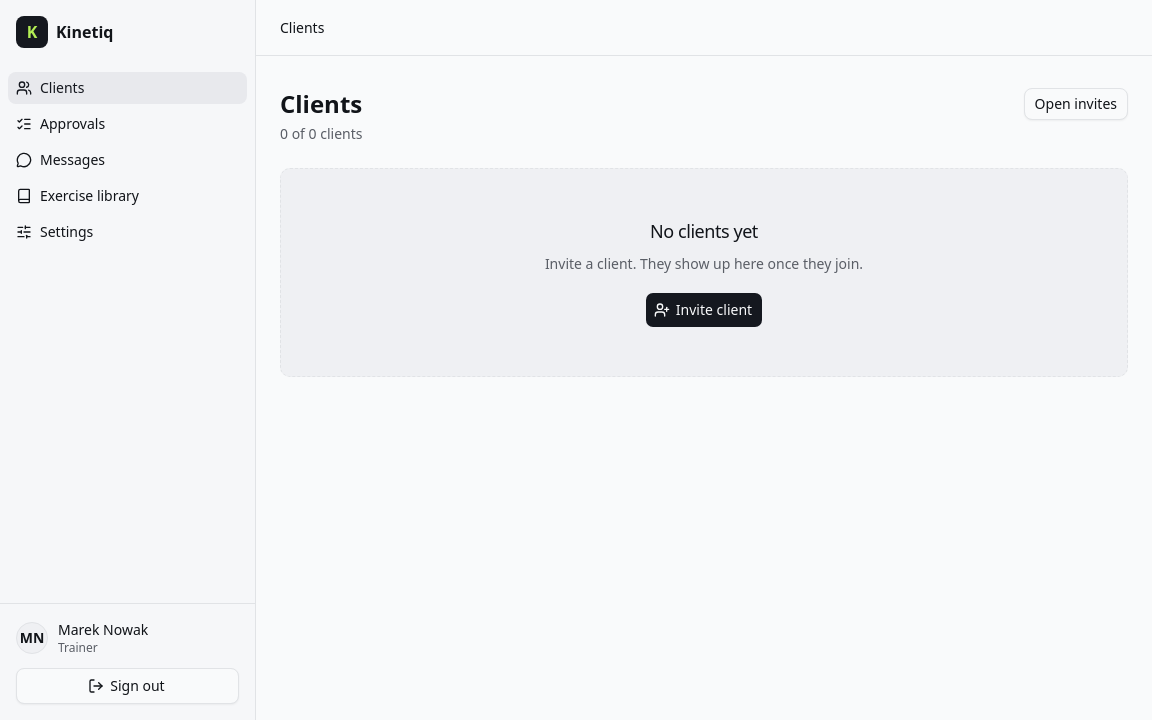
routes › reaches the open invites from the clients section, which stays current
Click the link "Open invites": (1076, 104) [1024, 88, 1128, 120]
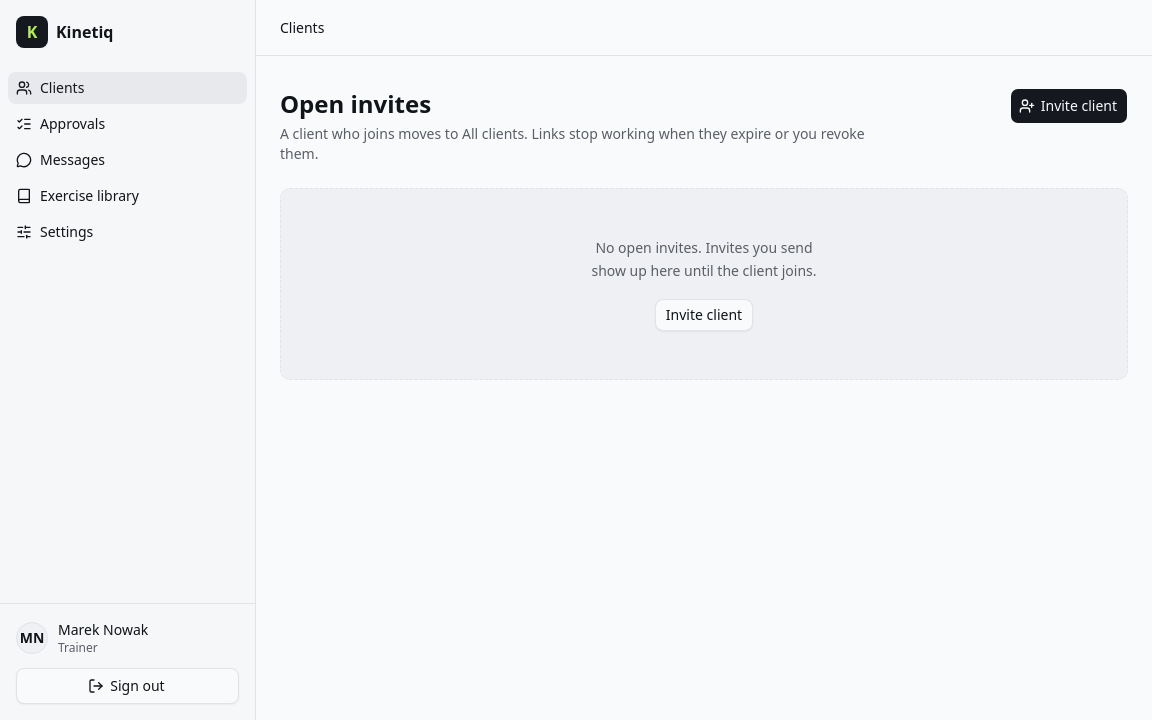
Expected: the heading "Open invites" is shown, [280, 87, 431, 120]
